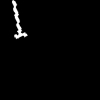half_double_crochet: (12, 1, 26, 38)
